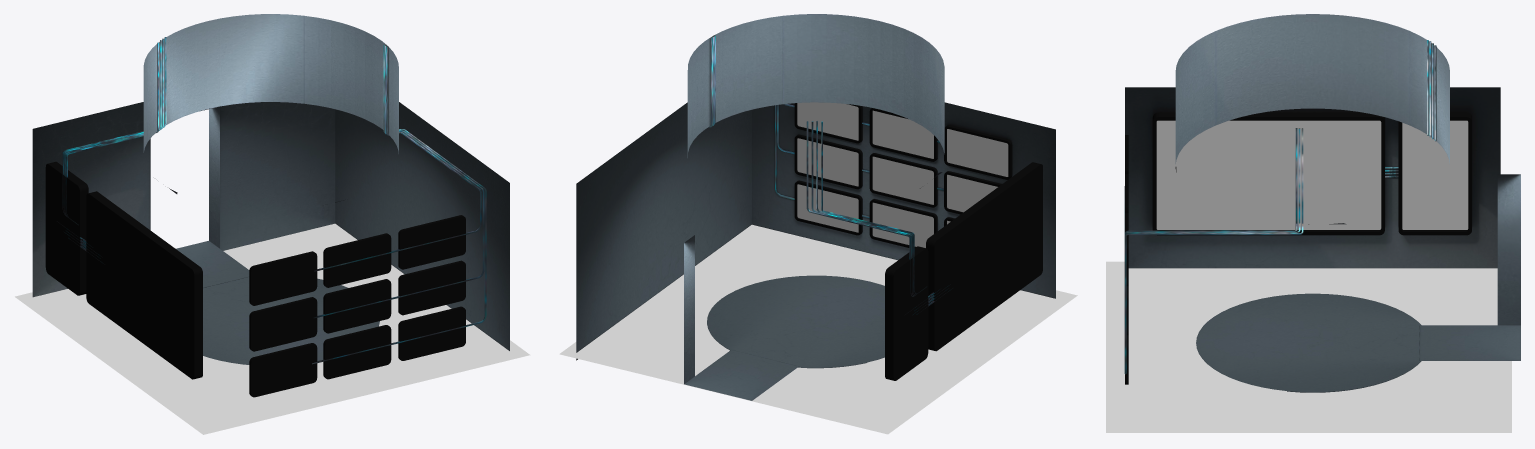
Rendered from TOSKU_Featured_compressed.glb.
3 renders of one model, left to right at view 1: azimuth 30°, elevation 25°; view 2: azimuth 150°, elevation 25°; view 3: azimuth 270°, elevation 25°, orthographic. The views are drawn at different scales.
Visible parts, largest first — view 1: Building.Featured, Plane, Original Content Large Screen FW 1, Original Content Descriptor Screen FW 1, Featured Work Thumbnail 7, Featured Work Thumbnail 9, Featured Work Thumbnail 8, Featured Work Thumbnail 5, Featured Work Thumbnail 4, Featured Work Thumbnail 6, Featured Work Thumbnail 1, Featured Work Thumbnail 2 (+3 smaller); view 2: Building.Featured, Plane, Original Content Large Screen FW 1, Original Content Descriptor Screen FW 1, Featured Work Thumbnail 5, Featured Work Thumbnail 7, Featured Work Thumbnail 2, Featured Work Thumbnail 4, Featured Work Thumbnail 3, Featured Work Thumbnail 6, Featured Work Thumbnail 1, Featured Work Large Screen Wires (+2 smaller); view 3: Building.Featured, Plane, Original Content Large Screen FW 1, Original Content Descriptor Screen FW 1, Featured Work Thumbnail Screen Wires, Featured Work Large Screen Wires.
Part boxes in pixels (x1,y1,x2,y2): Building.Featured: [32, 14, 509, 364]; Plane: [15, 223, 530, 434]; Original Content Large Screen FW 1: [86, 191, 202, 379]; Original Content Descriptor Screen FW 1: [45, 161, 88, 295]; Featured Work Thumbnail 7: [249, 251, 317, 305]; Featured Work Thumbnail 9: [249, 343, 317, 397]; Featured Work Thumbnail 8: [249, 297, 317, 351]; Featured Work Thumbnail 5: [323, 279, 391, 333]; Featured Work Thumbnail 4: [323, 233, 391, 287]; Featured Work Thumbnail 6: [323, 325, 391, 379]; Featured Work Thumbnail 1: [398, 215, 465, 269]; Featured Work Thumbnail 2: [398, 260, 465, 315]; Building.Featured: [576, 14, 1055, 400]; Plane: [559, 224, 1077, 434]; Original Content Large Screen FW 1: [926, 162, 1042, 351]; Original Content Descriptor Screen FW 1: [885, 246, 928, 380]; Featured Work Thumbnail 5: [869, 153, 937, 207]; Featured Work Thumbnail 7: [944, 125, 1012, 179]; Featured Work Thumbnail 2: [794, 134, 862, 189]; Featured Work Thumbnail 4: [869, 108, 937, 161]; Featured Work Thumbnail 3: [794, 180, 862, 235]; Featured Work Thumbnail 6: [869, 199, 937, 247]; Featured Work Thumbnail 1: [794, 102, 862, 143]; Featured Work Large Screen Wires: [806, 121, 927, 296]; Building.Featured: [1125, 14, 1520, 392]; Plane: [1106, 261, 1511, 432]; Original Content Large Screen FW 1: [1152, 112, 1384, 235]; Original Content Descriptor Screen FW 1: [1398, 112, 1471, 235]; Featured Work Thumbnail Screen Wires: [1124, 128, 1303, 374]; Featured Work Large Screen Wires: [1427, 40, 1436, 141].
Size of the model in its own units: 9.73 by 7.53 by 9.94.
Materials: 8 (6 with a texture image).
